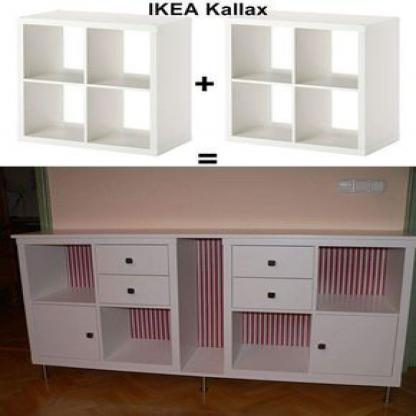lamp: (10, 231, 415, 407)
